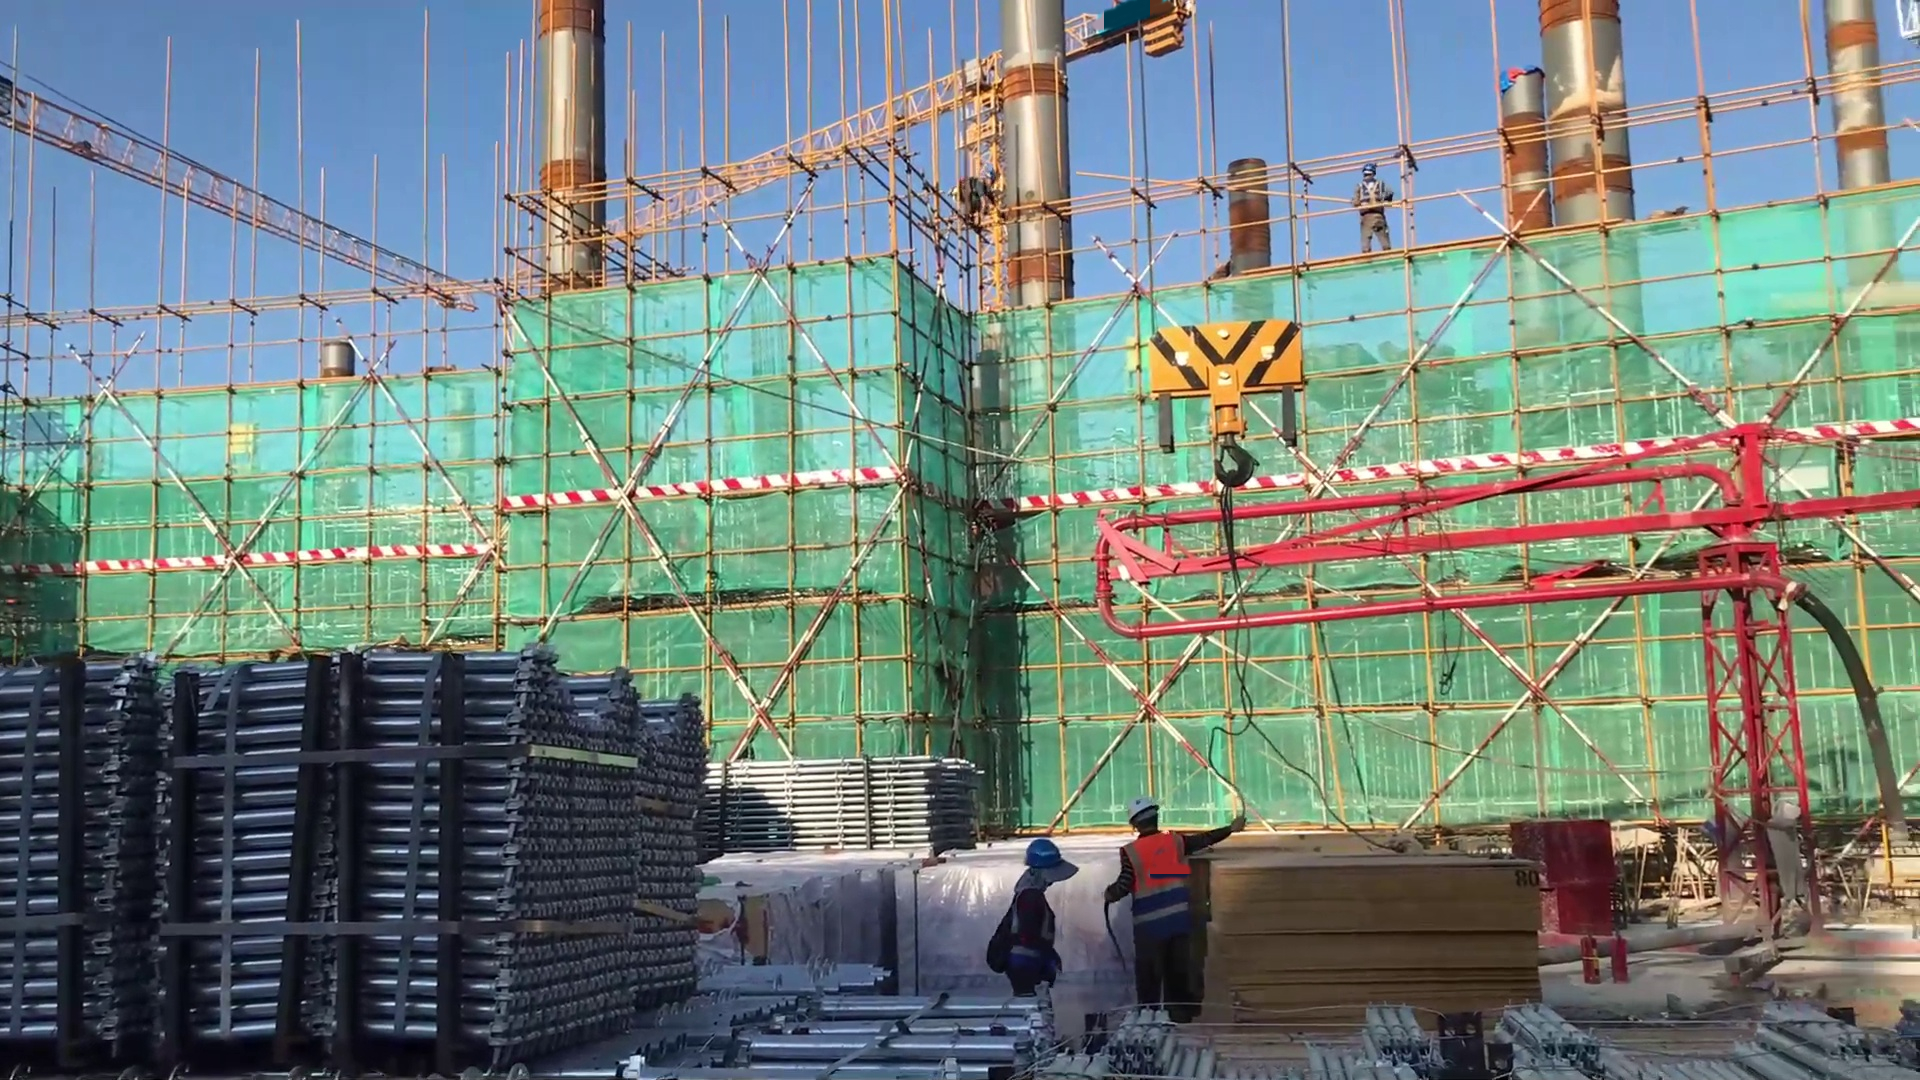board: (1180, 848, 1550, 1041)
helmet: (1118, 779, 1177, 840), (1018, 836, 1072, 881), (1358, 165, 1380, 186)
hook: (1127, 306, 1316, 517)
person: (1093, 790, 1243, 1041), (986, 835, 1074, 1034), (1349, 161, 1395, 256)
scaffold: (1, 645, 729, 1078), (731, 967, 1192, 1080), (1091, 1005, 1593, 1080), (690, 751, 986, 866), (1531, 1006, 1909, 1080)
vest: (1110, 832, 1204, 956), (1004, 881, 1065, 995), (1358, 180, 1390, 212)
